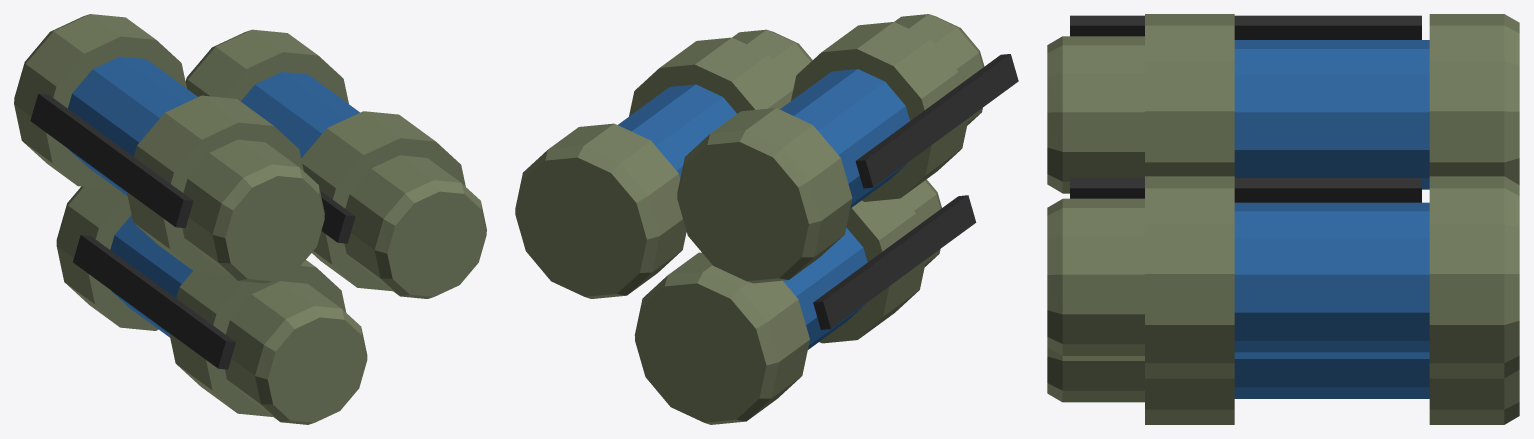
File: ce_handgren_flashbang_b.obj
The picture shows the model from 3 angles, left to right: view 1: azimuth 30°, elevation 25°; view 2: azimuth 150°, elevation 25°; view 3: azimuth 270°, elevation 25°; orthographic projection. The views are drawn at different scales.
Parts seen in each view (by area): view 1: ce_handgren_flashbang_b_g2_cap, ce_handgren_flashbang_b_g1_cap, ce_handgren_flashbang_b_g0_cap, ce_handgren_flashbang_b_g0_rim_low, ce_handgren_flashbang_b_g0_rim_up, ce_handgren_flashbang_b_g1_rim_up, ce_handgren_flashbang_b_g0_core, ce_handgren_flashbang_b_g1_rim_low, ce_handgren_flashbang_b_g2_rim_up, ce_handgren_flashbang_b_g0_spoon, ce_handgren_flashbang_b_g2_spoon, ce_handgren_flashbang_b_g2_rim_low (+3 smaller); view 2: ce_handgren_flashbang_b_g0_rim_low, ce_handgren_flashbang_b_g1_rim_low, ce_handgren_flashbang_b_g2_rim_low, ce_handgren_flashbang_b_g0_rim_up, ce_handgren_flashbang_b_g0_core, ce_handgren_flashbang_b_g1_rim_up, ce_handgren_flashbang_b_g0_spoon, ce_handgren_flashbang_b_g2_spoon, ce_handgren_flashbang_b_g2_rim_up, ce_handgren_flashbang_b_g1_core, ce_handgren_flashbang_b_g2_core, ce_handgren_flashbang_b_g0_cap (+2 smaller); view 3: ce_handgren_flashbang_b_g1_core, ce_handgren_flashbang_b_g0_core, ce_handgren_flashbang_b_g1_rim_low, ce_handgren_flashbang_b_g1_rim_up, ce_handgren_flashbang_b_g1_cap, ce_handgren_flashbang_b_g0_rim_low, ce_handgren_flashbang_b_g0_rim_up, ce_handgren_flashbang_b_g0_cap, ce_handgren_flashbang_b_g2_core, ce_handgren_flashbang_b_g0_spoon, ce_handgren_flashbang_b_g1_spoon, ce_handgren_flashbang_b_g2_cap (+2 smaller).
Part boxes in pixels (box(x1,y1,x2,y2)): ce_handgren_flashbang_b_g2_cap: box(225, 281, 367, 424); ce_handgren_flashbang_b_g1_cap: box(344, 155, 486, 298); ce_handgren_flashbang_b_g0_cap: box(182, 139, 324, 283); ce_handgren_flashbang_b_g0_rim_low: box(14, 14, 186, 189); ce_handgren_flashbang_b_g0_rim_up: box(127, 95, 303, 275); ce_handgren_flashbang_b_g1_rim_up: box(301, 111, 465, 291); ce_handgren_flashbang_b_g0_core: box(68, 56, 197, 195); ce_handgren_flashbang_b_g1_rim_low: box(185, 29, 348, 103); ce_handgren_flashbang_b_g2_rim_up: box(169, 260, 346, 416); ce_handgren_flashbang_b_g0_spoon: box(30, 93, 193, 228); ce_handgren_flashbang_b_g2_spoon: box(73, 235, 235, 369); ce_handgren_flashbang_b_g2_rim_low: box(56, 186, 158, 330); ce_handgren_flashbang_b_g0_rim_low: box(677, 108, 852, 283); ce_handgren_flashbang_b_g1_rim_low: box(515, 123, 686, 298); ce_handgren_flashbang_b_g2_rim_low: box(634, 252, 809, 424); ce_handgren_flashbang_b_g0_rim_up: box(791, 22, 968, 201); ce_handgren_flashbang_b_g0_core: box(780, 69, 909, 208); ce_handgren_flashbang_b_g1_rim_up: box(629, 37, 794, 116); ce_handgren_flashbang_b_g0_spoon: box(855, 54, 1018, 188); ce_handgren_flashbang_b_g2_spoon: box(813, 195, 976, 329); ce_handgren_flashbang_b_g2_rim_up: box(819, 197, 926, 343); ce_handgren_flashbang_b_g1_core: box(618, 84, 736, 177); ce_handgren_flashbang_b_g2_core: box(783, 227, 867, 349); ce_handgren_flashbang_b_g0_cap: box(894, 14, 984, 125); ce_handgren_flashbang_b_g1_core: box(1234, 202, 1429, 352); ce_handgren_flashbang_b_g0_core: box(1234, 40, 1429, 189); ce_handgren_flashbang_b_g1_rim_low: box(1429, 176, 1519, 378); ce_handgren_flashbang_b_g1_rim_up: box(1145, 176, 1234, 378); ce_handgren_flashbang_b_g1_cap: box(1047, 198, 1144, 355); ce_handgren_flashbang_b_g0_rim_low: box(1429, 14, 1519, 184); ce_handgren_flashbang_b_g0_rim_up: box(1145, 14, 1234, 176); ce_handgren_flashbang_b_g0_cap: box(1047, 36, 1144, 193); ce_handgren_flashbang_b_g2_core: box(1234, 352, 1429, 398); ce_handgren_flashbang_b_g0_spoon: box(1070, 15, 1421, 39); ce_handgren_flashbang_b_g1_spoon: box(1070, 178, 1421, 202); ce_handgren_flashbang_b_g2_cap: box(1047, 347, 1144, 402).
Bounding box in the file's own units: 0.1513 × 0.1351 × 0.1576.
